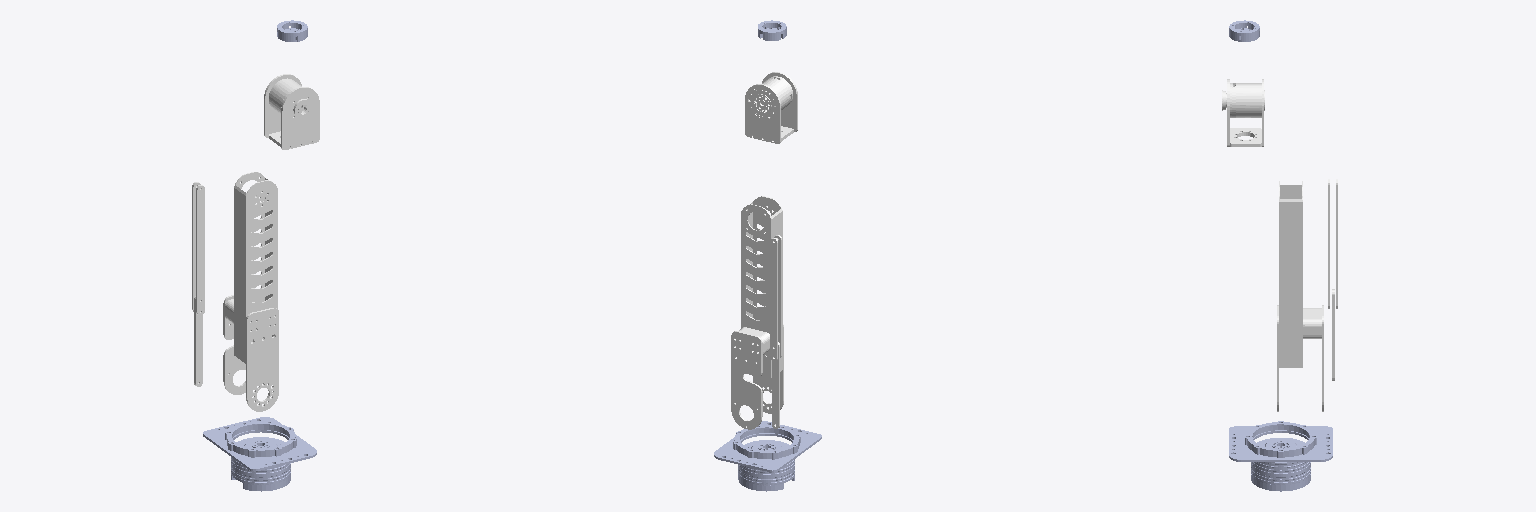
robot.urdf — shabi:
<?xml version="1.0" encoding="utf-8"?>
<!-- This URDF was automatically created by SolidWorks to URDF Exporter! Originally created by Stephen Brawner (brawner@gmail.com) 
     Commit Version: 1.6.0-4-g7f85cfe  Build Version: 1.6.7995.38578
     For more information, please see http://wiki.ros.org/sw_urdf_exporter -->
<robot
  name="shabi">
  <link
    name="base_link">
    <inertial>
      <origin
        xyz="0.00025281 2.5248E-05 -0.11438"
        rpy="0 0 0" />
      <mass
        value="0.5229" />
      <inertia
        ixx="0.00069081"
        ixy="-3.5231E-09"
        ixz="-4.3565E-08"
        iyy="0.00052418"
        iyz="-1.1744E-08"
        izz="0.0010991" />
    </inertial>
    <visual>
      <origin
        xyz="0 0 0"
        rpy="0 0 0" />
      <geometry>
        <mesh
          filename="package://shabi/meshes/base_link.STL" />
      </geometry>
      <material
        name="">
        <color
          rgba="0.79216 0.81961 0.93333 1" />
      </material>
    </visual>
    <collision>
      <origin
        xyz="0 0 0"
        rpy="0 0 0" />
      <geometry>
        <mesh
          filename="package://shabi/meshes/base_link.STL" />
      </geometry>
    </collision>
  </link>
  <link
    name="link1">
    <inertial>
      <origin
        xyz="0.00010875 0.038163 -0.016779"
        rpy="0 0 0" />
      <mass
        value="0.41357" />
      <inertia
        ixx="0.00047326"
        ixy="4.8795E-09"
        ixz="6.4665E-09"
        iyy="0.00085767"
        iyz="8.5658E-09"
        izz="0.00054656" />
    </inertial>
    <visual>
      <origin
        xyz="0 0 0"
        rpy="0 0 0" />
      <geometry>
        <mesh
          filename="package://shabi/meshes/link1.STL" />
      </geometry>
      <material
        name="">
        <color
          rgba="0.79216 0.81961 0.93333 1" />
      </material>
    </visual>
    <collision>
      <origin
        xyz="0 0 0"
        rpy="0 0 0" />
      <geometry>
        <mesh
          filename="package://shabi/meshes/link1.STL" />
      </geometry>
    </collision>
  </link>
  <joint
    name="joint1"
    type="revolute">
    <origin
      xyz="0 0 0"
      rpy="0 0 0" />
    <parent
      link="base_link" />
    <child
      link="link1" />
    <axis
      xyz="0 0 -1" />
    <limit
      lower="-3.14"
      upper="3.14"
      effort="20"
      velocity="6.28" />
  </joint>
  <link
    name="link2">
    <inertial>
      <origin
        xyz="0.16283 -0.008726 0.032724"
        rpy="0 0 0" />
      <mass
        value="0.56328" />
      <inertia
        ixx="0.00029458"
        ixy="8.4279E-08"
        ixz="1.2114E-05"
        iyy="0.0030506"
        iyz="5.9597E-20"
        izz="0.0031884" />
    </inertial>
    <visual>
      <origin
        xyz="0 0 0"
        rpy="0 0 0" />
      <geometry>
        <mesh
          filename="package://shabi/meshes/link2.STL" />
      </geometry>
      <material
        name="">
        <color
          rgba="1 1 1 1" />
      </material>
    </visual>
    <collision>
      <origin
        xyz="0 0 0"
        rpy="0 0 0" />
      <geometry>
        <mesh
          filename="package://shabi/meshes/link2.STL" />
      </geometry>
    </collision>
  </link>
  <joint
    name="joint2"
    type="revolute">
    <origin
      xyz="0 0 0"
      rpy="1.5708 -1.5708 3.14" />
    <parent
      link="link1" />
    <child
      link="link2" />
    <axis
      xyz="0 0 -1" />
    <limit
      lower="-3.14"
      upper="3.14"
      effort="40"
      velocity="6.28" />
  </joint>
  <link
    name="link3">
    <inertial>
      <origin
        xyz="0.01187 -0.040706 -0.050863"
        rpy="0 0 0" />
      <mass
        value="0.69398" />
      <inertia
        ixx="0.00068383"
        ixy="6.1259E-05"
        ixz="2.0859E-08"
        iyy="0.00045282"
        iyz="-2.642E-08"
        izz="0.00074983" />
    </inertial>
    <visual>
      <origin
        xyz="0 0 0"
        rpy="0 0 0" />
      <geometry>
        <mesh
          filename="package://shabi/meshes/link3.STL" />
      </geometry>
      <material
        name="">
        <color
          rgba="1 1 1 1" />
      </material>
    </visual>
    <collision>
      <origin
        xyz="0 0 0"
        rpy="0 0 0" />
      <geometry>
        <mesh
          filename="package://shabi/meshes/link3.STL" />
      </geometry>
    </collision>
  </link>
  <joint
    name="joint3"
    type="revolute">
    <origin
      xyz="0.35 0 0"
      rpy="0 0 1.5708" />
    <parent
      link="link2" />
    <child
      link="link3" />
    <axis
      xyz="0 0 1" />
    <limit
      lower="-3.14"
      upper="3.14"
      effort="30"
      velocity="6.28" />
  </joint>
  <link
    name="link4">
    <inertial>
      <origin
        xyz="4.5436E-05 -0.0040238 -0.012624"
        rpy="0 0 0" />
      <mass
        value="0.2538" />
      <inertia
        ixx="0.00011728"
        ixy="1.693E-08"
        ixz="-1.8583E-08"
        iyy="0.00016655"
        iyz="-2.3435E-12"
        izz="9.1825E-05" />
    </inertial>
    <visual>
      <origin
        xyz="0 0 0"
        rpy="0 0 0" />
      <geometry>
        <mesh
          filename="package://shabi/meshes/link4.STL" />
      </geometry>
      <material
        name="">
        <color
          rgba="1 1 1 1" />
      </material>
    </visual>
    <collision>
      <origin
        xyz="0 0 0"
        rpy="0 0 0" />
      <geometry>
        <mesh
          filename="package://shabi/meshes/link4.STL" />
      </geometry>
    </collision>
  </link>
  <joint
    name="joint4"
    type="revolute">
    <origin
      xyz="0.0245 -0.192 -0.05775"
      rpy="1.5708 0 0" />
    <parent
      link="link3" />
    <child
      link="link4" />
    <axis
      xyz="0 0 -1" />
    <limit
      lower="-3.14"
      upper="3.14"
      effort="3"
      velocity="6.28" />
  </joint>
  <link
    name="link5">
    <inertial>
      <origin
        xyz="-5.0047E-05 -0.075729 -0.0016596"
        rpy="0 0 0" />
      <mass
        value="0.32097" />
      <inertia
        ixx="0.00028985"
        ixy="2.9207E-08"
        ixz="1.0638E-08"
        iyy="0.0001537"
        iyz="2.9947E-08"
        izz="0.00028447" />
    </inertial>
    <visual>
      <origin
        xyz="0 0 0"
        rpy="0 0 0" />
      <geometry>
        <mesh
          filename="package://shabi/meshes/link5.STL" />
      </geometry>
      <material
        name="">
        <color
          rgba="1 1 1 1" />
      </material>
    </visual>
    <collision>
      <origin
        xyz="0 0 0"
        rpy="0 0 0" />
      <geometry>
        <mesh
          filename="package://shabi/meshes/link5.STL" />
      </geometry>
    </collision>
  </link>
  <joint
    name="joint5"
    type="revolute">
    <origin
      xyz="0 0 0"
      rpy="-1.5708 0 0" />
    <parent
      link="link4" />
    <child
      link="link5" />
    <axis
      xyz="0 0 -1" />
    <limit
      lower="-3.14"
      upper="3.14"
      effort="9"
      velocity="6.28" />
  </joint>
  <link
    name="link6">
    <inertial>
      <origin
        xyz="-0.0001 -0.00195 0.12294"
        rpy="0 0 0" />
      <mass
        value="0.023473" />
      <inertia
        ixx="4.7422E-06"
        ixy="-6.8824E-09"
        ixz="-3.1968E-22"
        iyy="4.7207E-06"
        iyz="5.4056E-21"
        izz="8.0855E-06" />
    </inertial>
    <visual>
      <origin
        xyz="0 0 0"
        rpy="0 0 0" />
      <geometry>
        <mesh
          filename="package://shabi/meshes/link6.STL" />
      </geometry>
      <material
        name="">
        <color
          rgba="0.79216 0.81961 0.93333 1" />
      </material>
    </visual>
    <collision>
      <origin
        xyz="0 0 0"
        rpy="0 0 0" />
      <geometry>
        <mesh
          filename="package://shabi/meshes/link6.STL" />
      </geometry>
    </collision>
  </link>
  <joint
    name="joint6"
    type="revolute">
    <origin
      xyz="0 0 0"
      rpy="1.5708 0 0" />
    <parent
      link="link5" />
    <child
      link="link6" />
    <axis
      xyz="0 0 -1" />
    <limit
      lower="-3.14"
      upper="3.14"
      effort="3"
      velocity="6.28" />
  </joint>
</robot>

--- Facts derived from the render (not from the file) ---
Views: 3 orthographic renders of the robot side by side, from view 1: azimuth 30°, elevation 25°; view 2: azimuth 150°, elevation 25°; view 3: azimuth 270°, elevation 25°.
Robot: shabi — 7 links, 6 joints (6 revolute); root link base_link; default pose: all joints at 0.
Visible links, largest first — view 1: link2, base_link, link4, link6; view 2: link2, base_link, link4; view 3: link2, base_link, link4, link6.
Link boxes in pixels (<box>): link2: <box>192,172,278,411</box>; base_link: <box>203,417,316,491</box>; link4: <box>264,74,319,149</box>; link6: <box>277,20,307,41</box>; link2: <box>731,196,783,429</box>; base_link: <box>714,421,821,491</box>; link4: <box>745,72,797,143</box>; link2: <box>1277,179,1337,411</box>; base_link: <box>1229,421,1332,491</box>; link4: <box>1222,79,1264,146</box>; link6: <box>1229,20,1259,41</box>.
Bounding box of the posed robot: 0.1399 × 0.1915 × 0.8288 m (x, y, z).
Meshes: 7 distinct files referenced, 4 mesh visuals loaded (4 binary STL); not drawn: 3 (reference not matched to a file when rendering).
